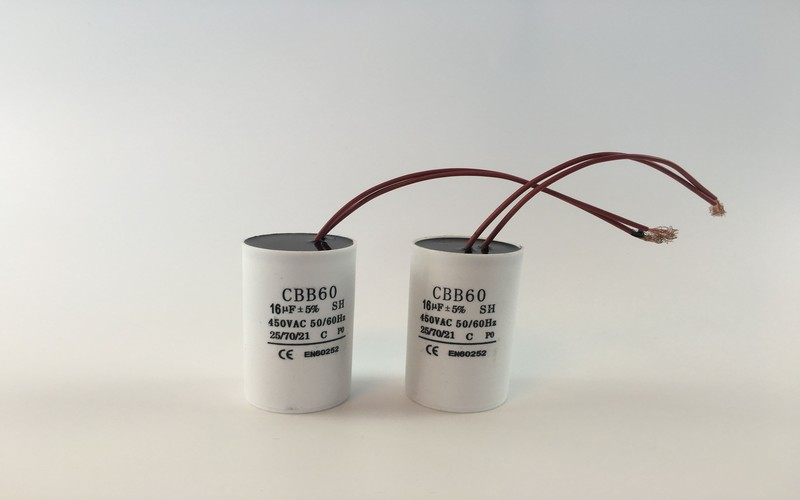Capacitor: (225, 196, 377, 445), (404, 210, 543, 427)
